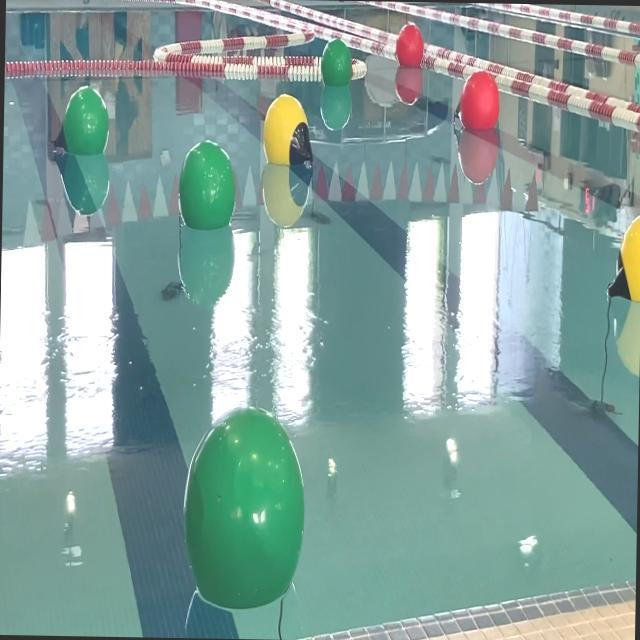buoy: (182, 404, 306, 620), (176, 139, 237, 232), (262, 92, 316, 170), (55, 85, 110, 159), (607, 210, 640, 308), (454, 70, 502, 136), (319, 42, 352, 87), (394, 24, 424, 70)
